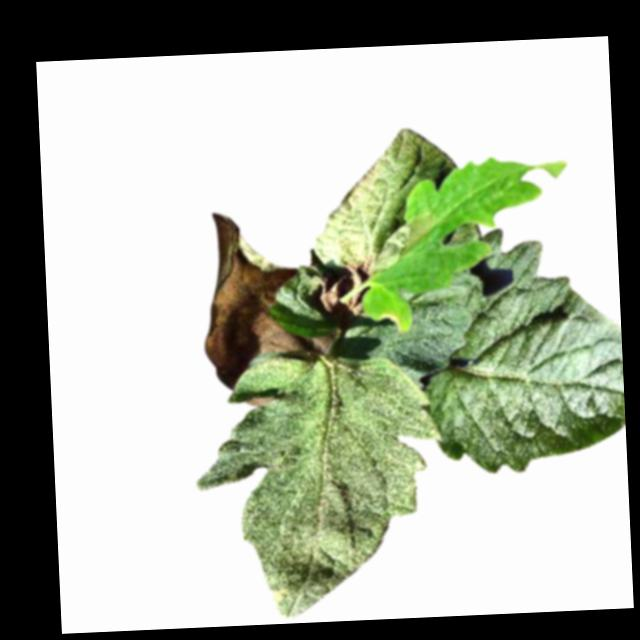Late_blight: (197, 205, 343, 393), (369, 212, 436, 274), (336, 256, 374, 316), (242, 392, 278, 408)
healthy: (191, 351, 445, 623), (418, 224, 626, 476)
